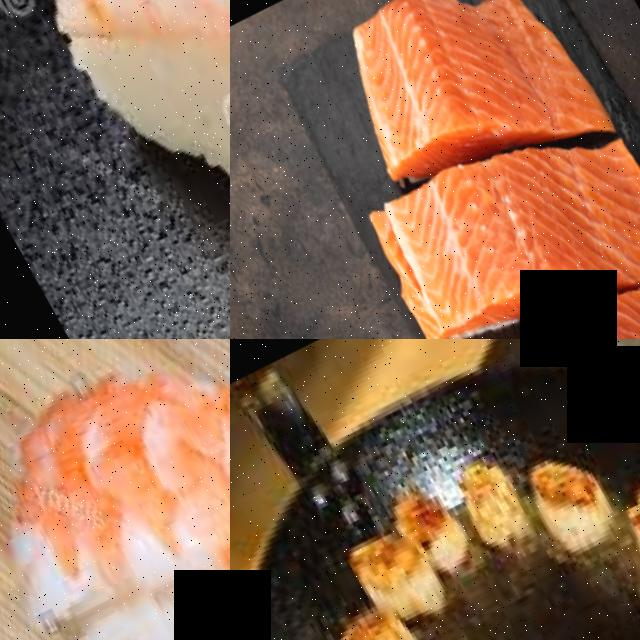salmon: (351, 68, 640, 339), (311, 0, 600, 193), (452, 230, 640, 339)
sea scallops: (517, 434, 624, 555), (338, 514, 437, 615), (392, 475, 471, 570), (324, 594, 427, 640), (608, 451, 640, 593)
shrimp: (0, 339, 230, 640)
